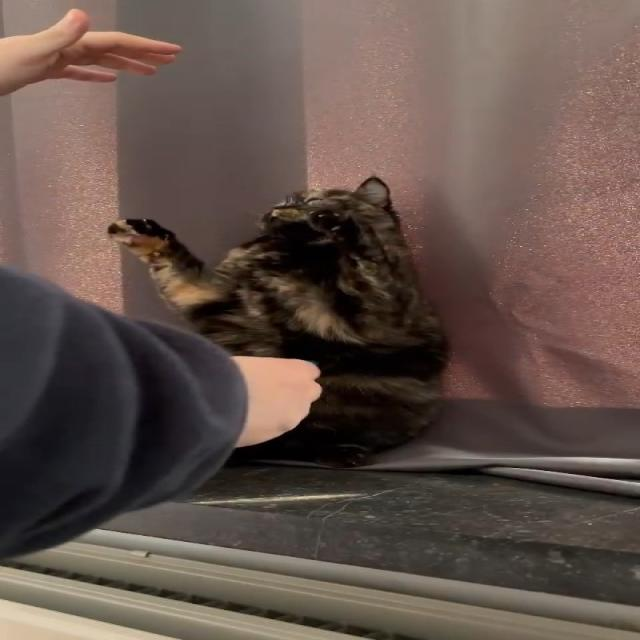authorized: (105, 174, 452, 469)
